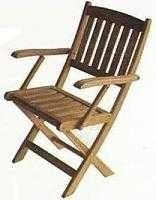obstacle: (1, 0, 154, 199)
